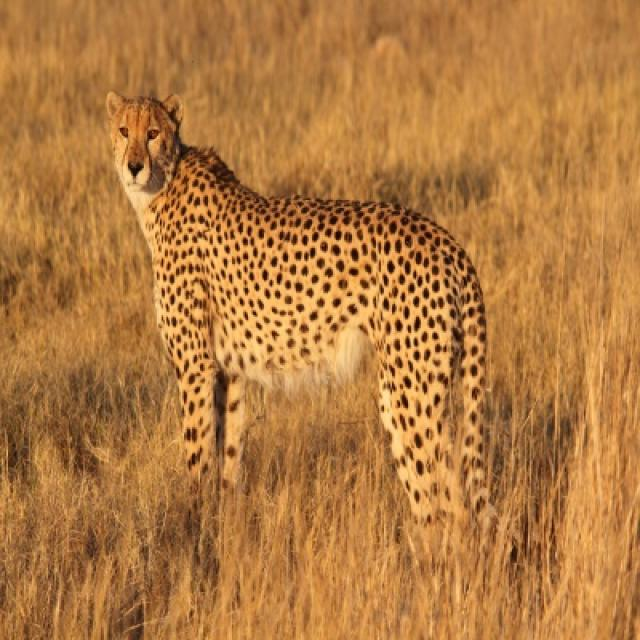Cheetah: (109, 93, 493, 525)
